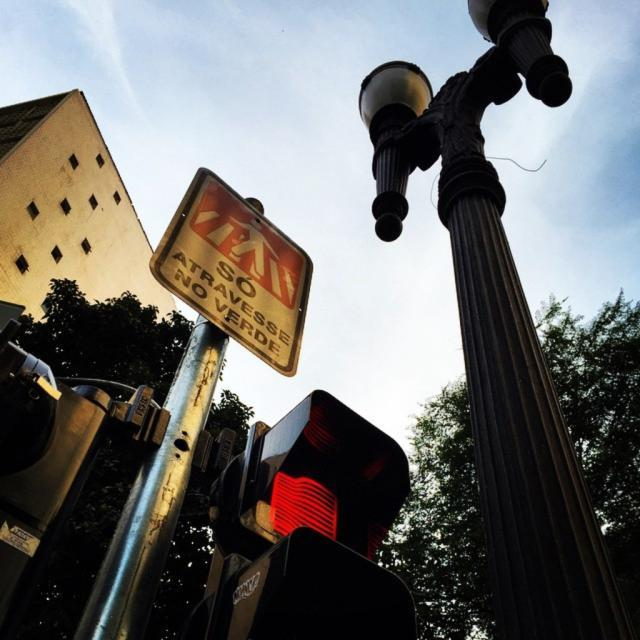traffic light: (200, 386, 415, 640)
